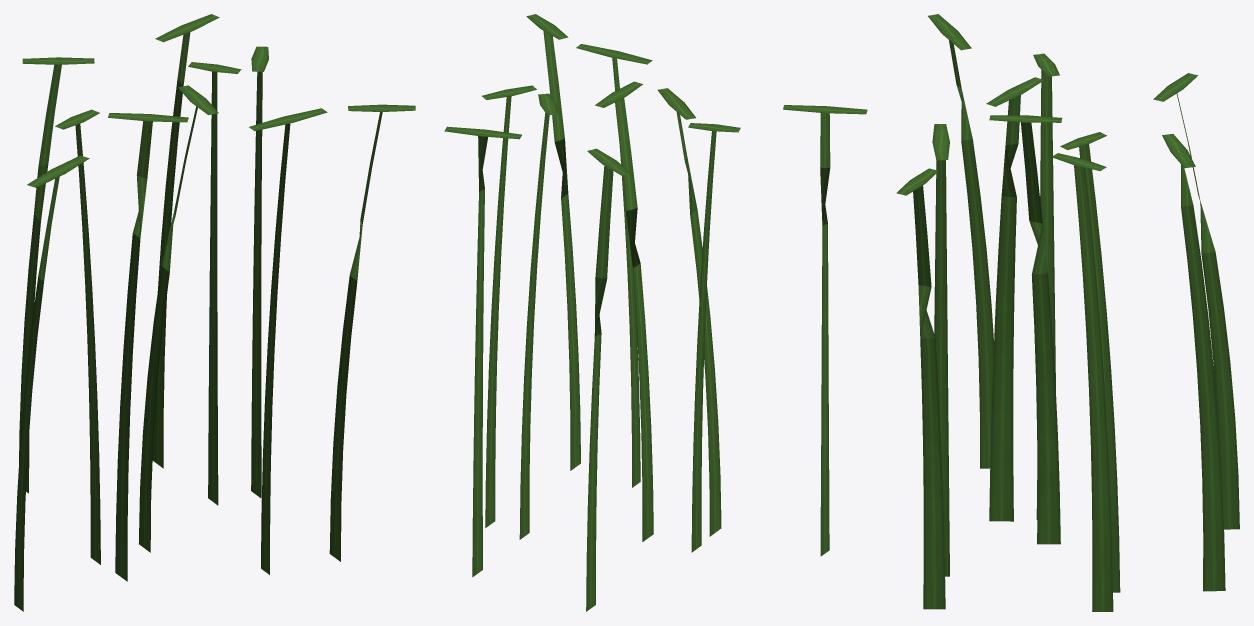
Rendered from pondweed_v1.fbx.
The picture shows the model from 3 angles, left to right: view 1: azimuth 30°, elevation 25°; view 2: azimuth 150°, elevation 25°; view 3: azimuth 270°, elevation 25°; orthographic projection. The views are drawn at different scales.
Parts seen in each view (by area): view 1: pondweed_v1; view 2: pondweed_v1; view 3: pondweed_v1.
Boxes of the visible parts, box(x1,y1,x2,y2) form: pondweed_v1: box(14, 14, 415, 611); pondweed_v1: box(444, 14, 867, 611); pondweed_v1: box(896, 14, 1239, 611).
Size of the model in its own units: 43.79 by 50.11 by 35.02.
1 material, 1 textured.
